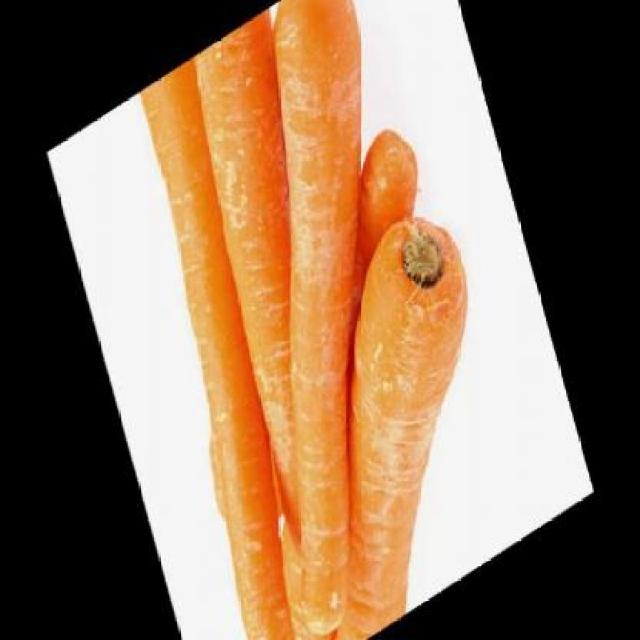carrot: (154, 0, 497, 638), (100, 36, 385, 638), (222, 187, 536, 638), (163, 6, 403, 560), (302, 111, 450, 344)
